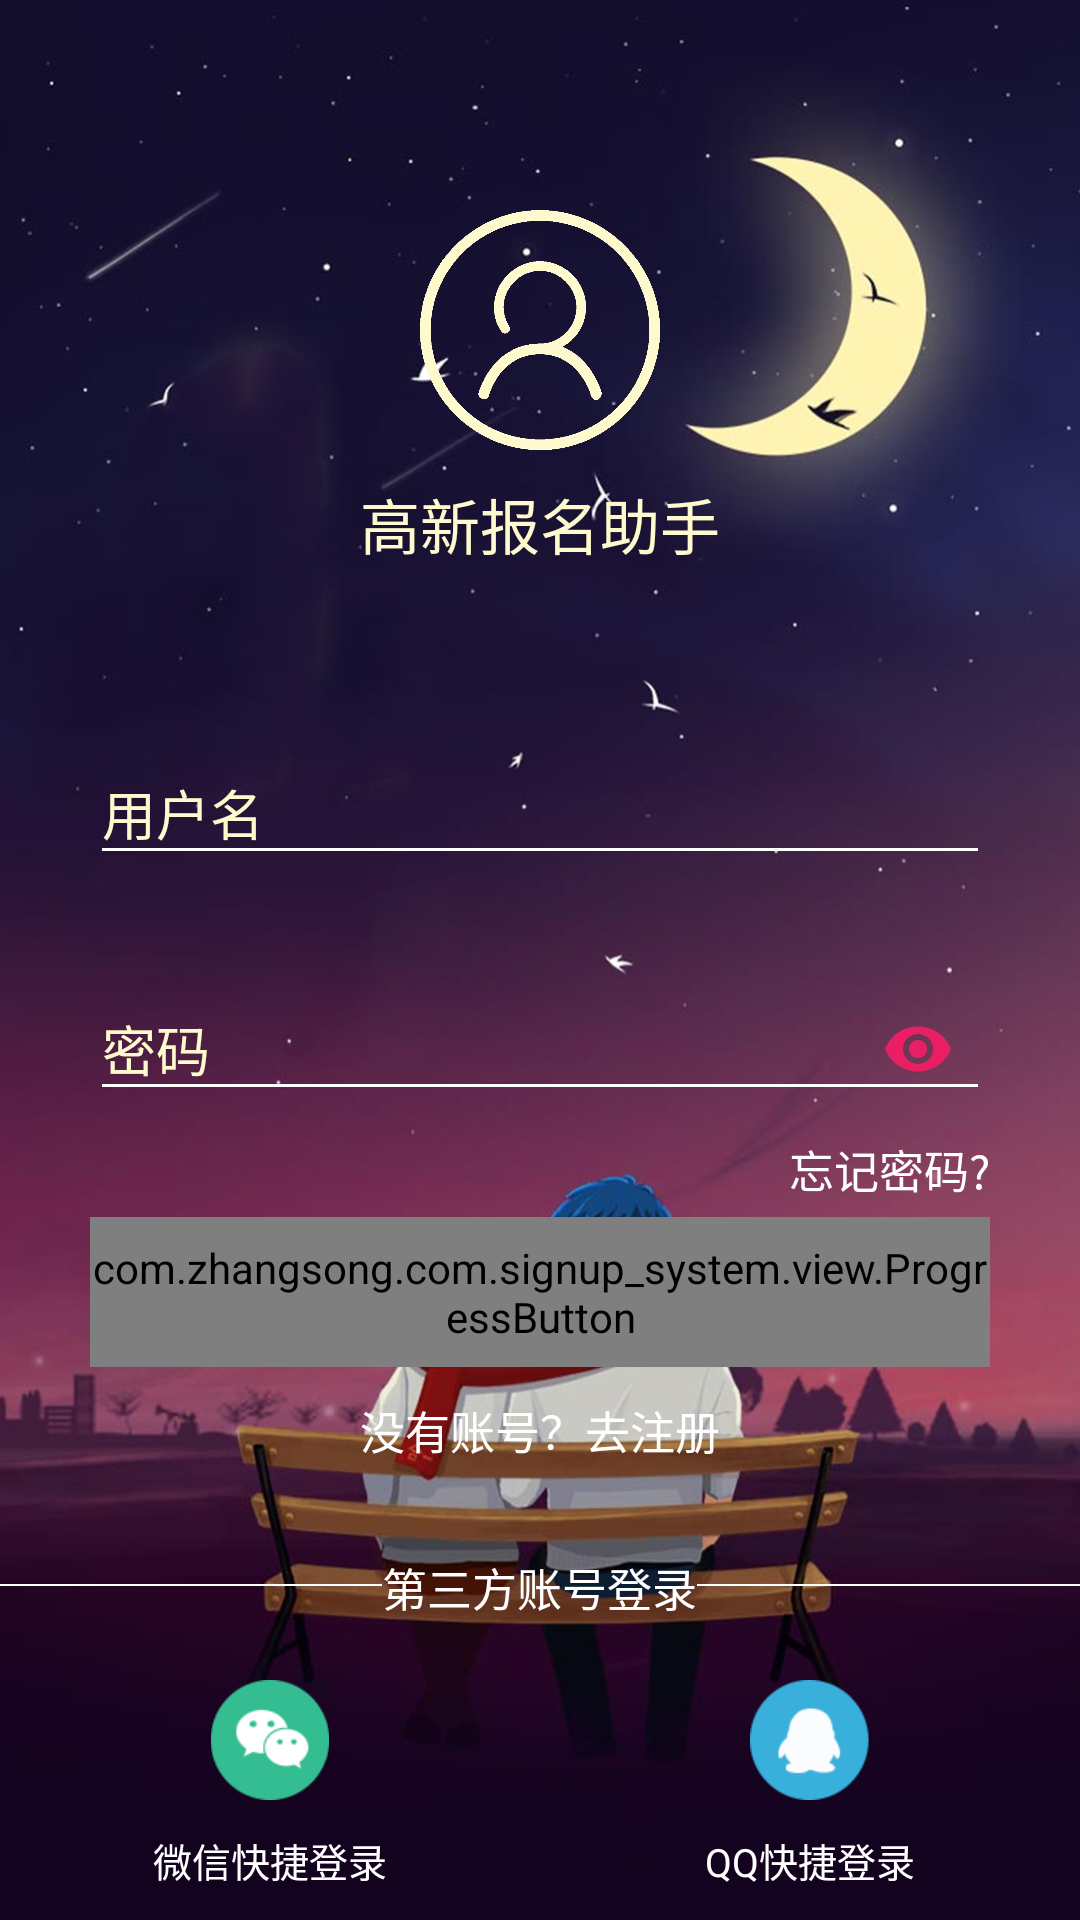

Where to tap for icons on this 1080*1920 app screen, as [x,y]:
login touxiang: [540,330]
